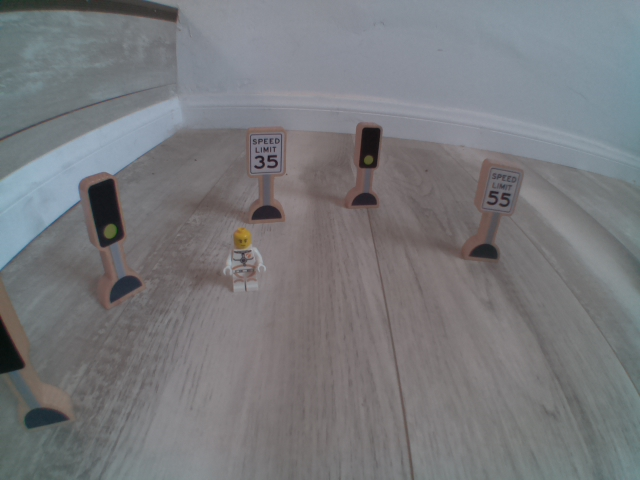Green Traffic Light: (72, 169, 137, 248), (352, 107, 388, 178)
Speed Limit 35: (242, 125, 292, 179)
Speed Limit 55: (473, 150, 529, 225)
person: (216, 224, 276, 297)
